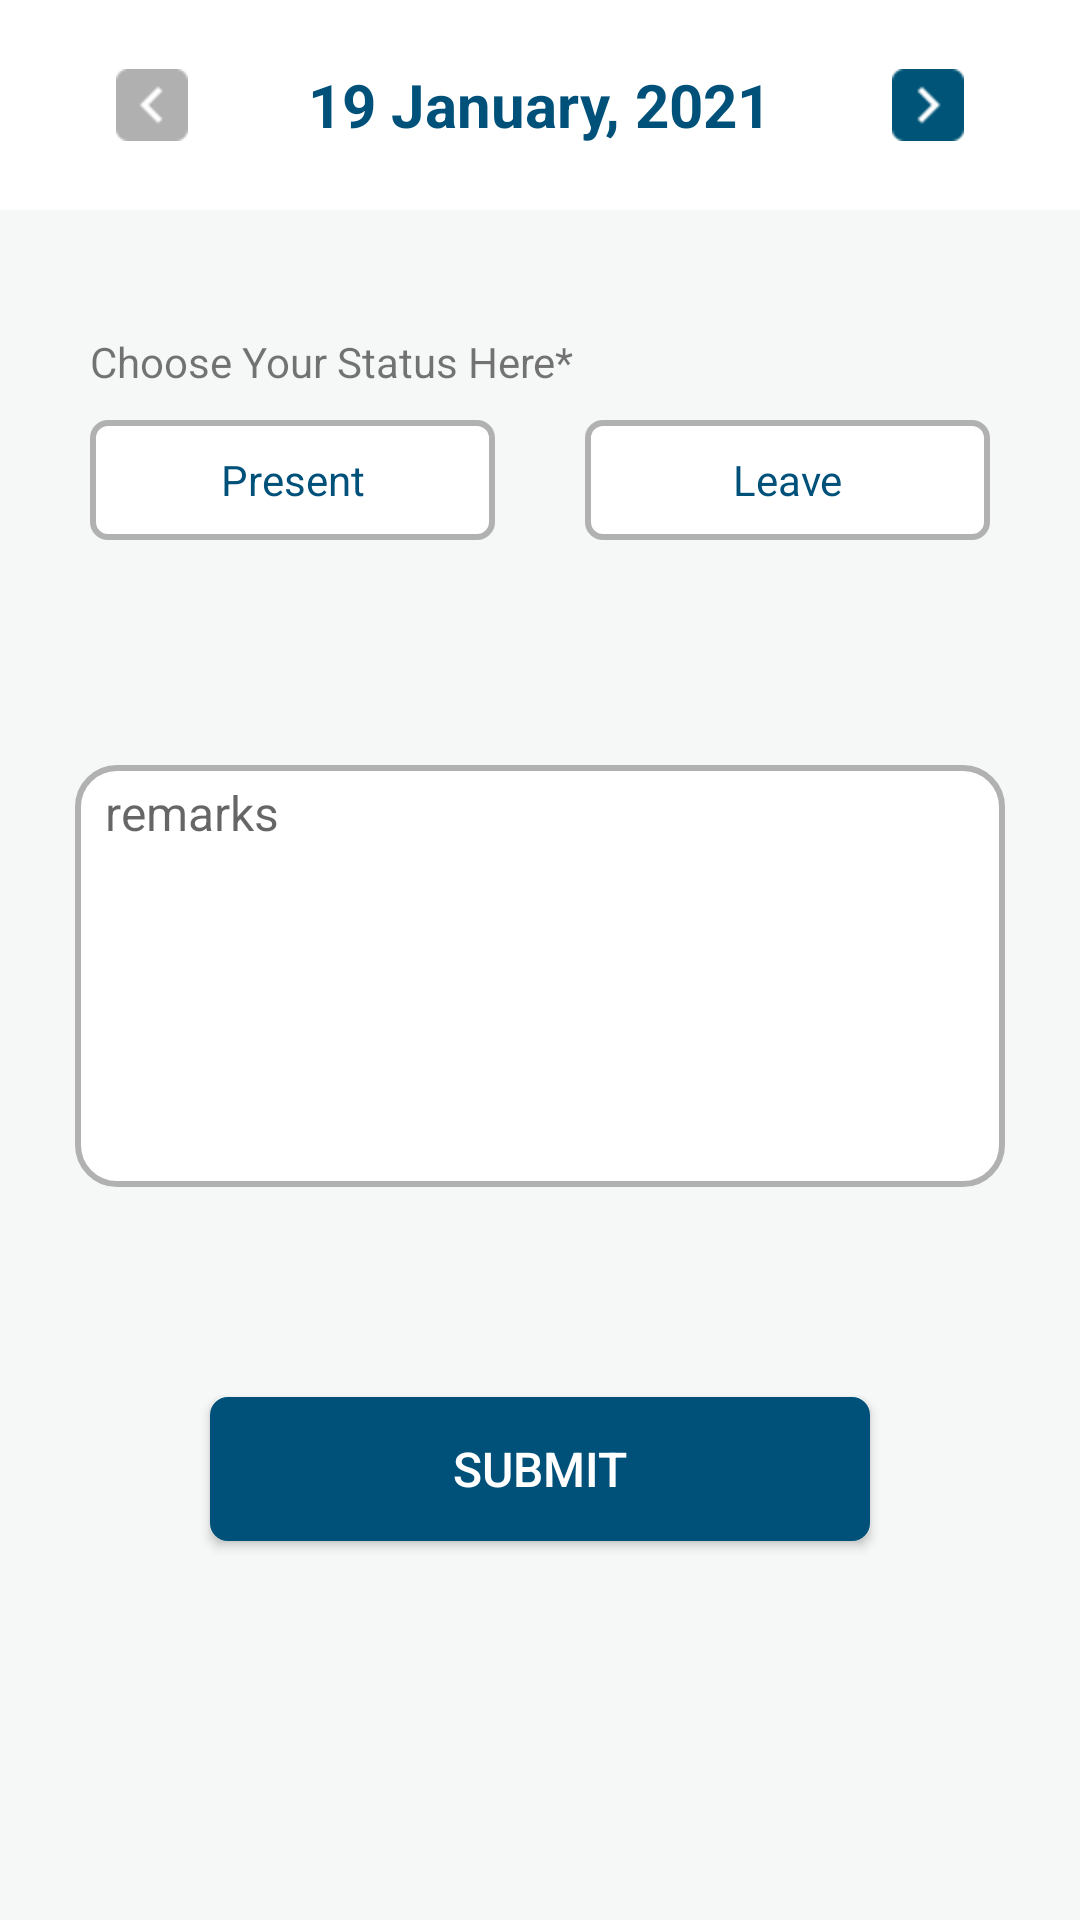

Point at icon controls on the screen. Image size 1080 x 1920, points as [x,y].
left blak arrow: [152,105]
right arrow: [928,105]
